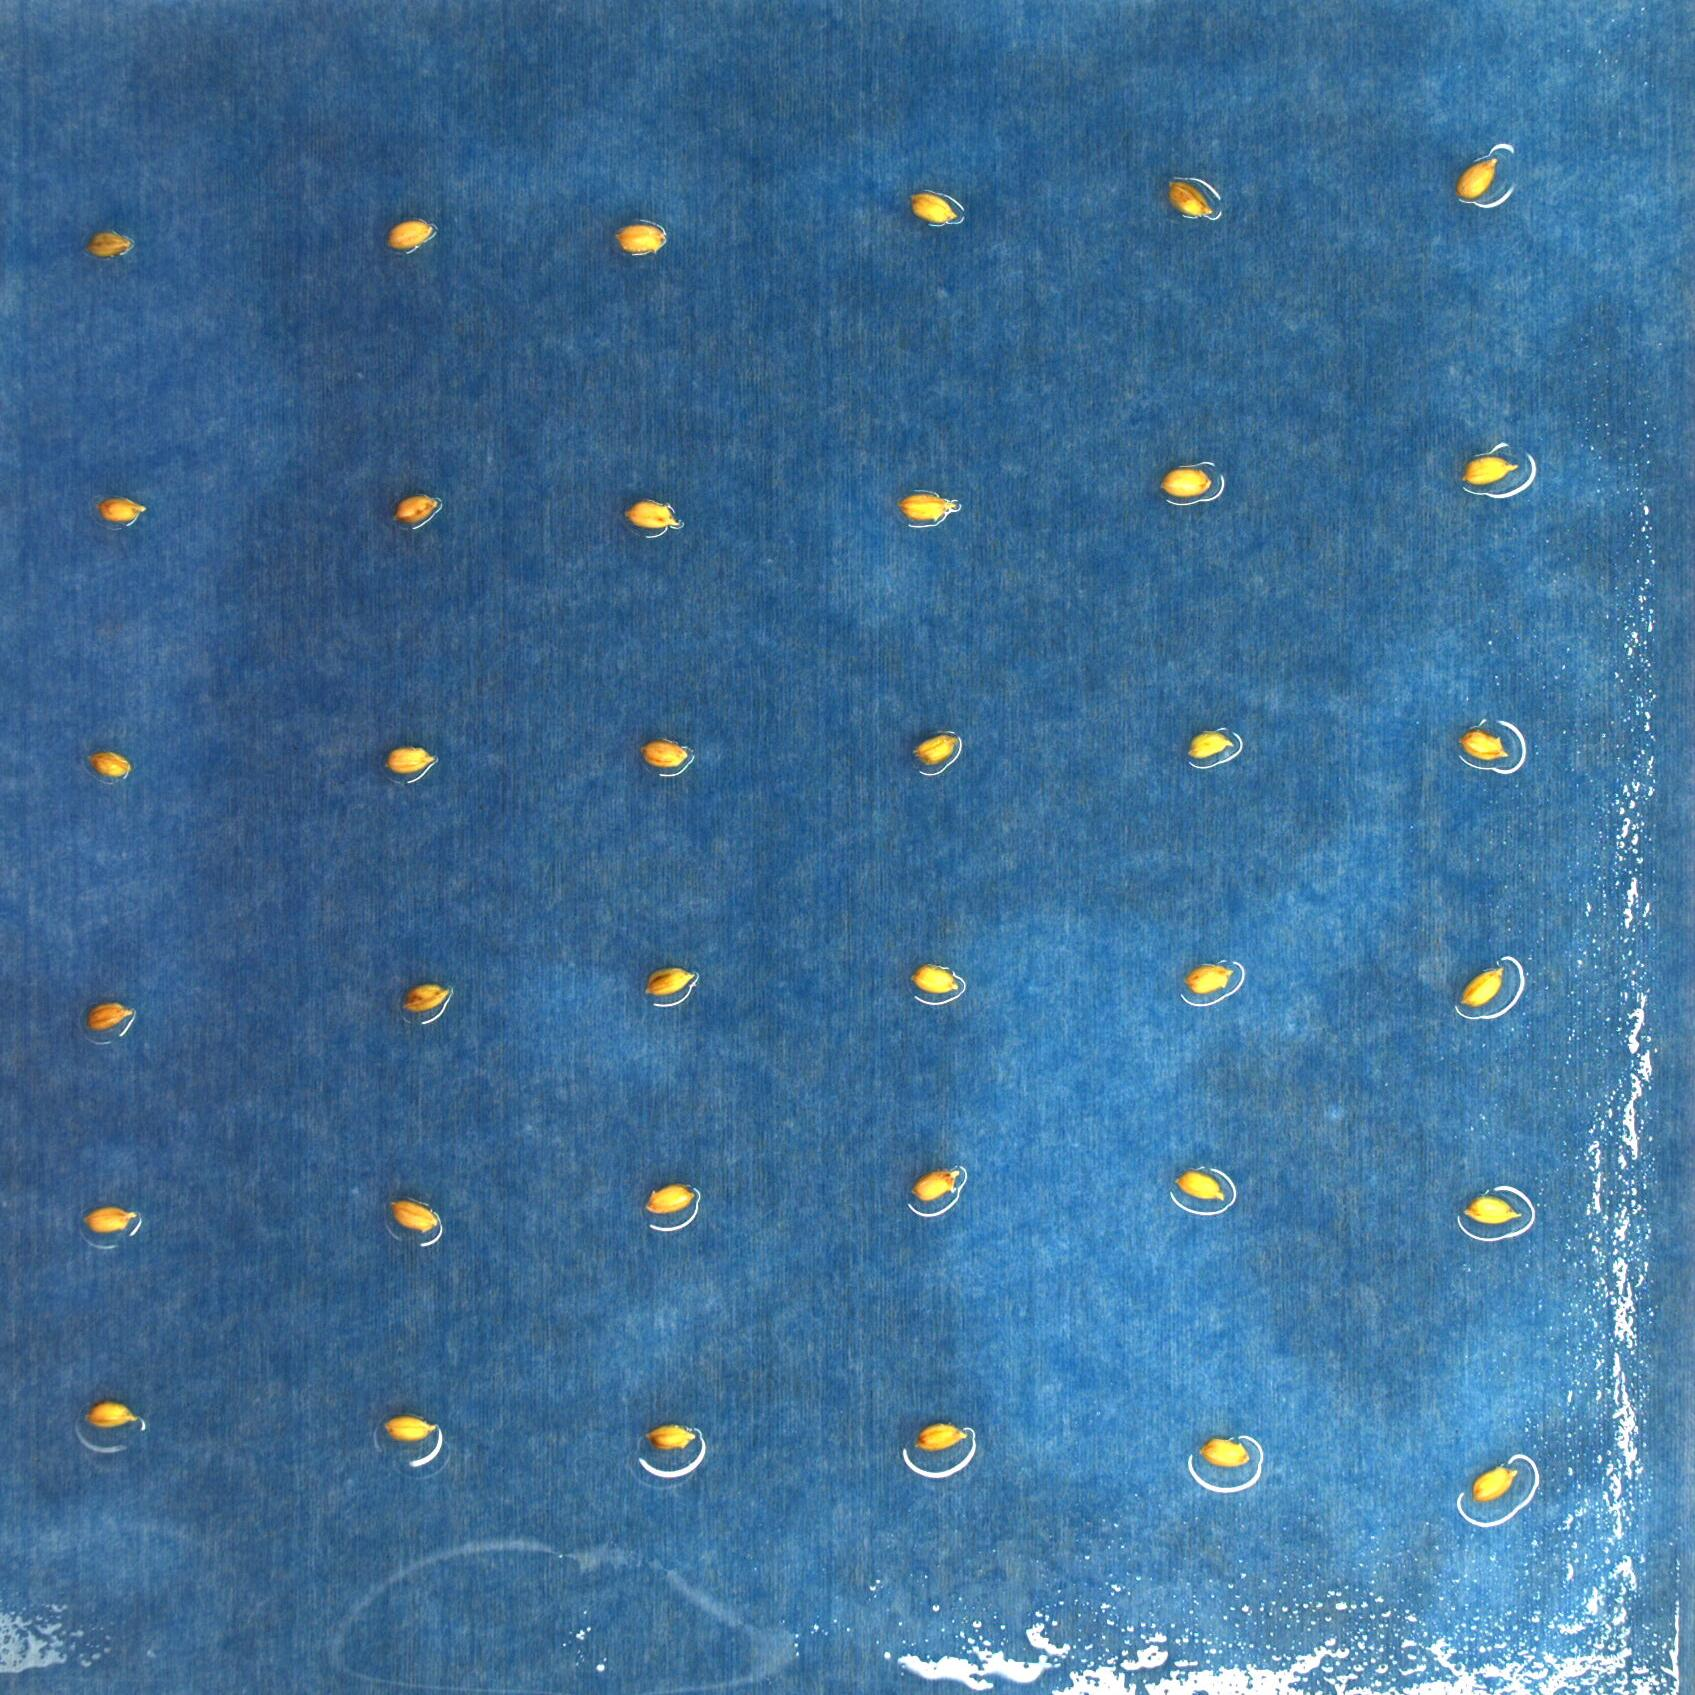not sprout: (1159, 459, 1217, 503), (1459, 1194, 1524, 1231), (911, 1163, 967, 1205), (1461, 964, 1509, 1012), (1459, 726, 1515, 765), (1471, 1461, 1520, 1506), (622, 497, 683, 532), (1456, 154, 1499, 203), (386, 1197, 438, 1239), (899, 487, 956, 523), (646, 965, 698, 1004), (910, 188, 964, 225), (914, 1420, 972, 1454), (644, 1420, 700, 1454), (1169, 177, 1212, 220), (1464, 452, 1516, 487), (383, 744, 439, 776), (1194, 1436, 1250, 1468), (615, 220, 667, 255), (646, 1184, 698, 1218), (1184, 962, 1236, 997), (1180, 1170, 1226, 1208), (84, 228, 137, 261), (84, 1000, 137, 1032), (386, 216, 435, 251), (82, 1402, 140, 1431), (101, 494, 147, 529), (385, 1416, 441, 1444), (913, 733, 959, 765), (85, 1208, 140, 1236), (911, 964, 959, 995), (640, 739, 692, 767), (404, 981, 449, 1014), (394, 495, 441, 525), (1189, 733, 1232, 764), (88, 751, 133, 779)
